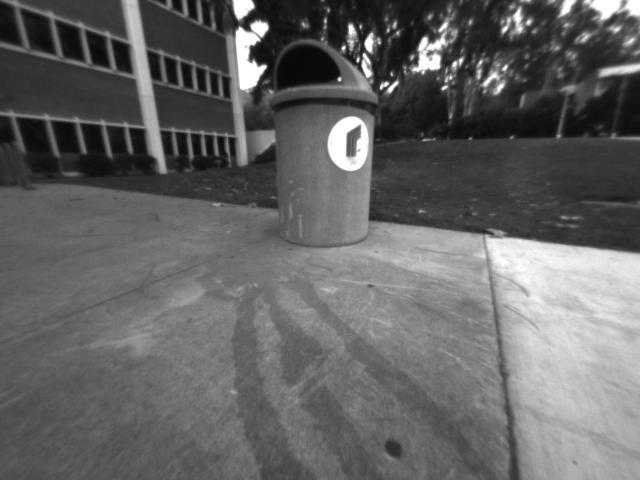trashcan: (249, 32, 393, 252)
